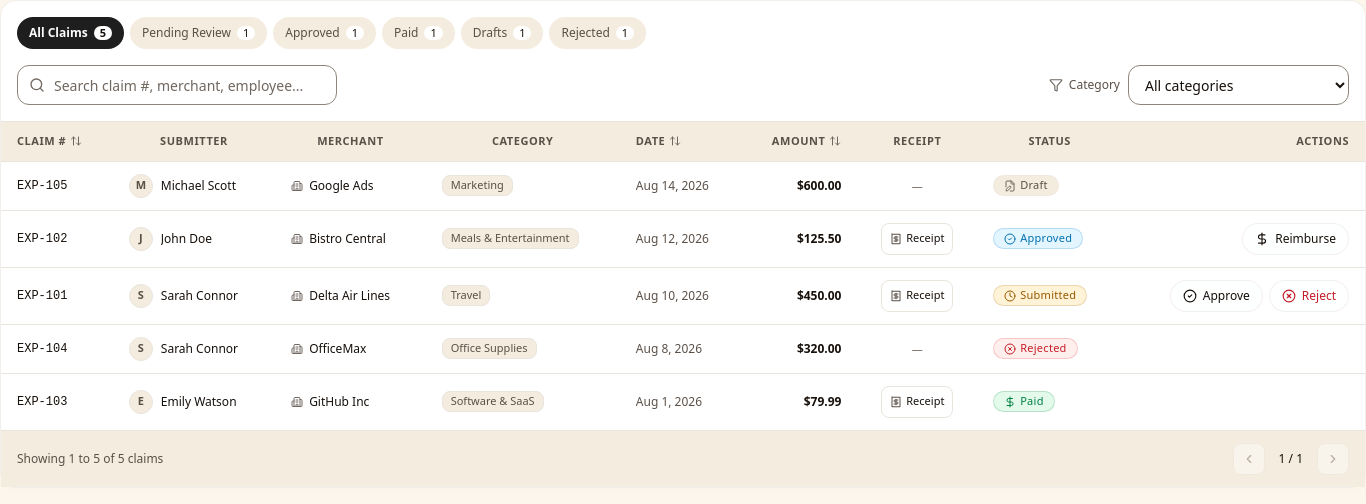
Scenario: ExpenseClaimsTable Component › filters claims via category dropdown
The image size is (1366, 504).
Select "Software & SaaS" in the dropdown with test id "select-filter-category" at (1238, 85), box [1128, 65, 1349, 105]
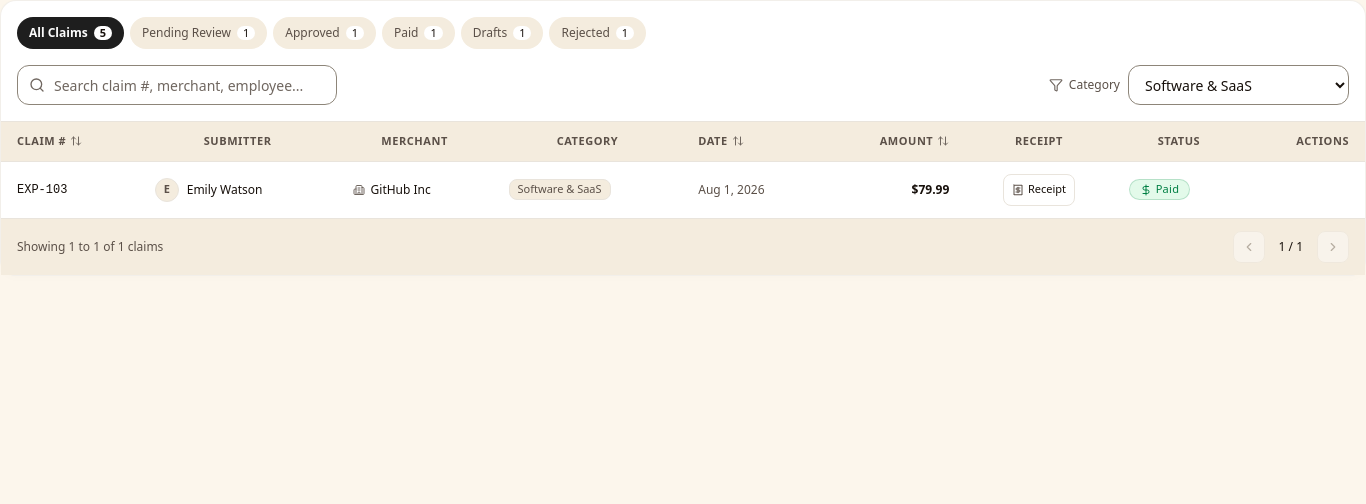
Expected: the button "EXP-103" is shown, [17, 182, 67, 198]
Now the button "EXP-101" is gone
